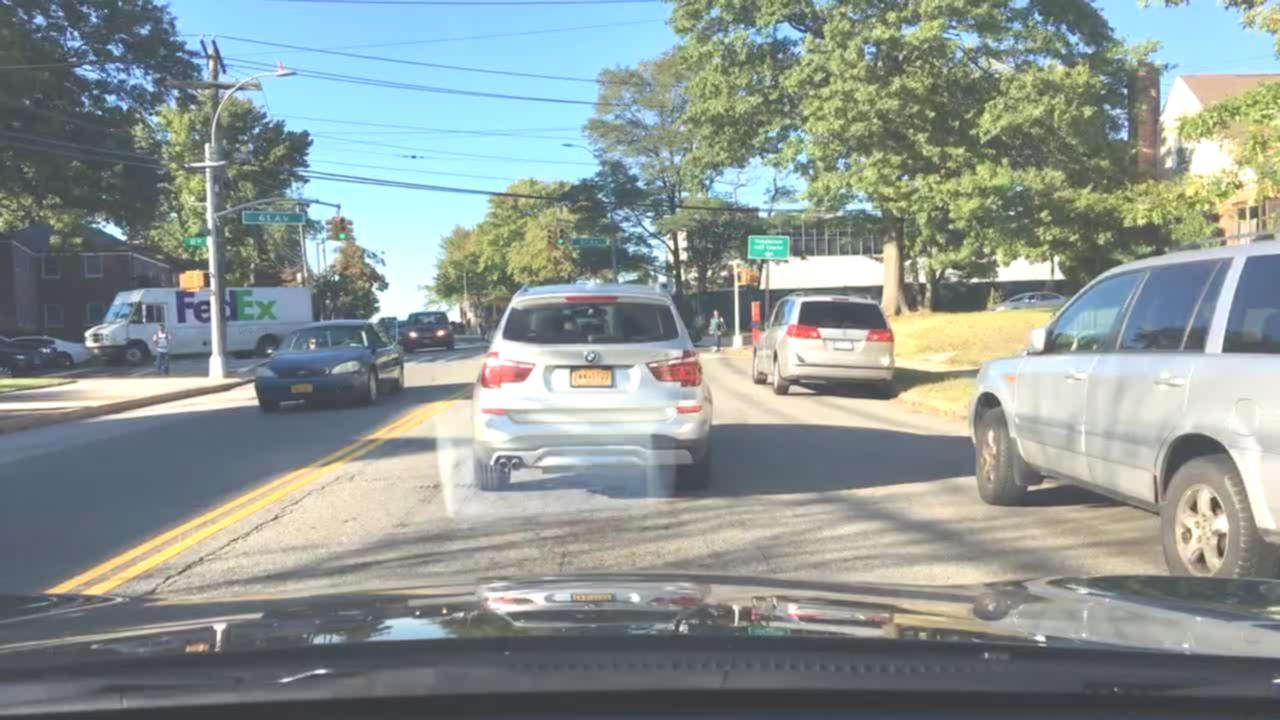bmw: (581, 350, 603, 365)
